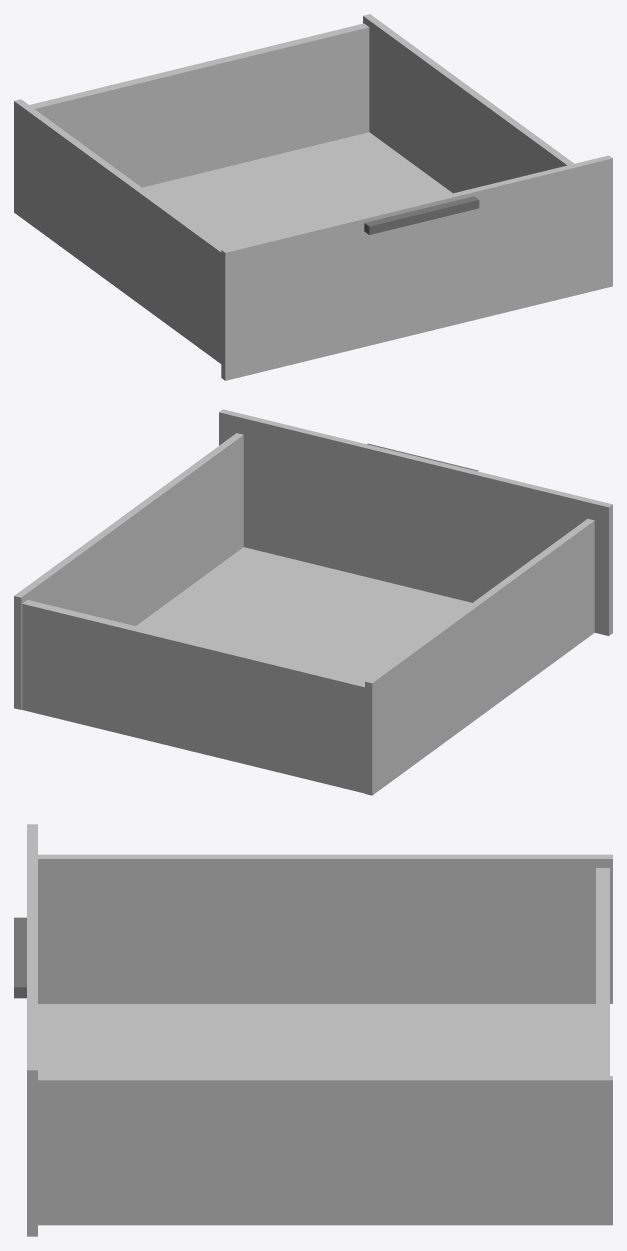
File: Cocina_Cajon02.fbx
3 renders of one model, top to bottom at view 1: azimuth 30°, elevation 25°; view 2: azimuth 150°, elevation 25°; view 3: azimuth 270°, elevation 25°, orthographic. The views are drawn at different scales.
Visible parts, largest first — view 1: Cocina_Cajon02; view 2: Cocina_Cajon02; view 3: Cocina_Cajon02.
Part boxes in pixels (x1,y1,x2,y2): Cocina_Cajon02: (14,14,612,380); Cocina_Cajon02: (14,409,612,795); Cocina_Cajon02: (14,824,612,1236).
Bounding box in the file's own units: 68.13 × 21.62 × 70.17.
